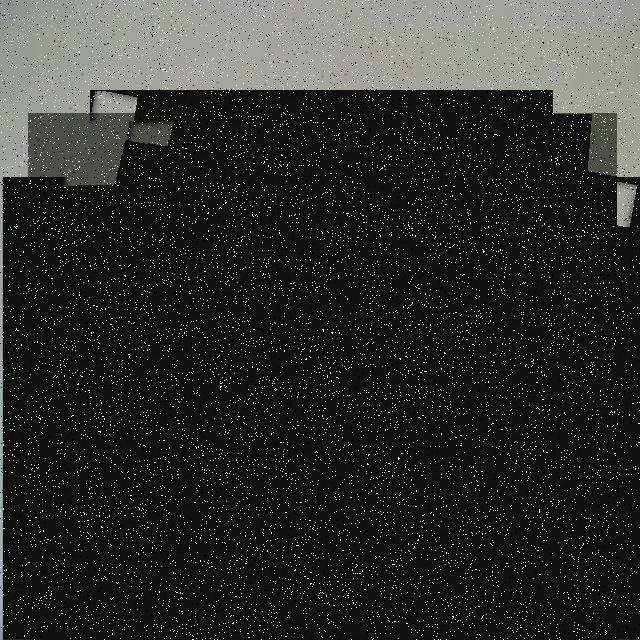dua puluh ribu rupiah: (28, 113, 617, 640)
